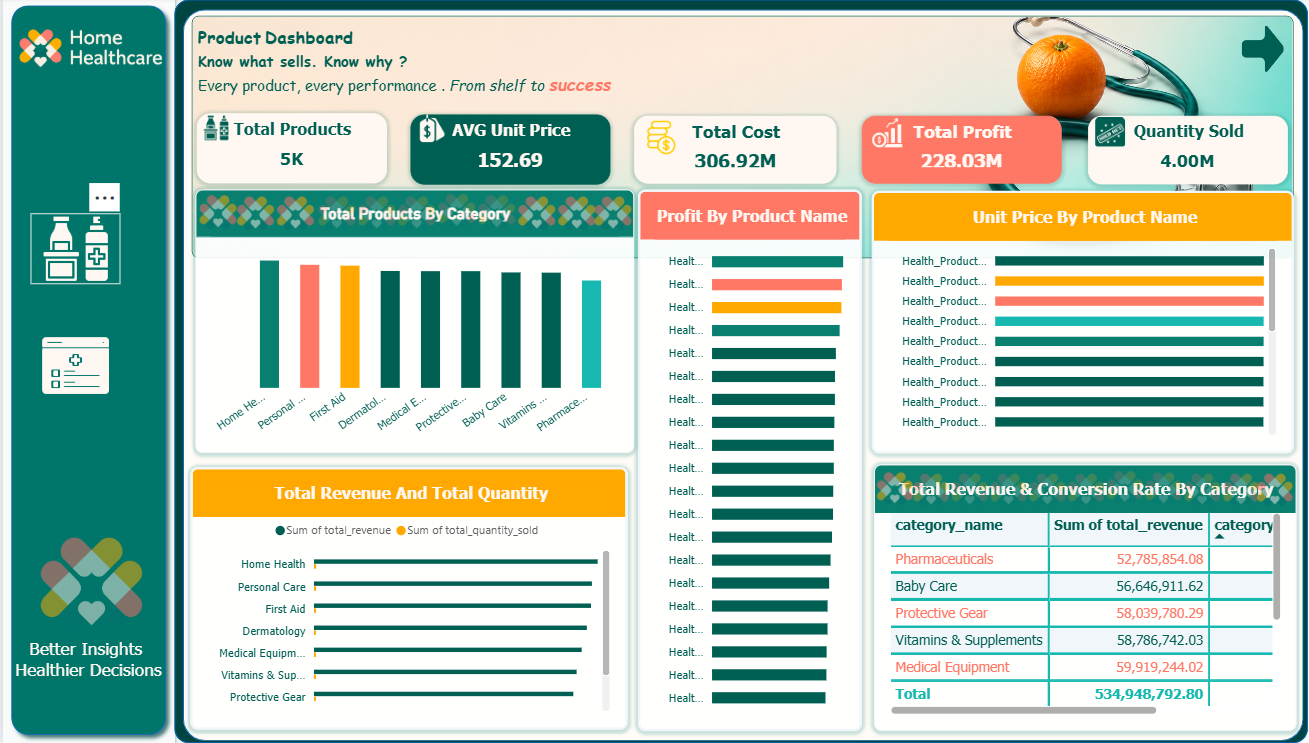

What the dashboard file says about the page in this screenshot:
{"tool":"powerbi","page":{"name":"Product Dashboard","canvas":[1400,800],"ordinal":2},"visuals":[{"type":"shape","box":[183.6,2.4,1215.8,797.6],"z":0},{"type":"cardVisual","title":"Total Cost","fields":{"Data":["Sum(healthcare_db_enhanced vw_product_dashboard.Total Cost)"]},"box":[677.5,127.8,217.2,73.1],"z":0,"group":"g2"},{"type":"shape","box":[192.9,12.9,1201.4,784.3],"z":1000},{"type":"cardVisual","title":"Total Products","fields":{"Data":["Count(healthcare_db_enhanced vw_product_dashboard.product_id)"]},"box":[207.8,124.7,204,75.2],"z":1000,"group":"g2"},{"type":"image","box":[202.9,20,1181.4,260],"z":2000},{"type":"cardVisual","title":"AVG Unit Price","fields":{"Data":["Avg(healthcare_db_enhanced vw_product_dashboard.unit_price)"]},"box":[437.3,126.5,214.5,75.1],"z":2000,"group":"g2"},{"type":"cardVisual","title":" Quantity Sold","fields":{"Data":["Sum(healthcare_db_enhanced vw_product_dashboard.total_quantity_sold)"]},"box":[1163.3,127,214.7,73.4],"z":3000,"group":"g2"},{"type":"columnChart","title":"Total Products By Category","fields":{"Category":["healthcare_db_enhanced vw_product_dashboard.category_name"],"Y":["CountNonNull(healthcare_db_enhanced vw_product_dashboard.product_id)"]},"box":[206.4,206.5,470.5,282.7],"z":3000,"group":"g3"},{"type":"clusteredBarChart","title":"Total Revenue And Total Quantity","fields":{"Category":["healthcare_db_enhanced vw_product_dashboard.category_name"],"Y":["Sum(healthcare_db_enhanced vw_product_dashboard.total_revenue)","Sum(healthcare_db_enhanced vw_product_dashboard.total_quantity_sold)"]},"box":[201.1,504,469.2,281.5],"z":3000},{"type":"cardVisual","title":"Total Profit","fields":{"Data":["Sum(healthcare_db_enhanced vw_product_dashboard.Total Profit)"]},"box":[921.5,127.3,214.7,73],"z":4000,"group":"g2"},{"type":"barChart","title":"Unit Price By Product Name","fields":{"Category":["healthcare_db_enhanced vw_product_dashboard.product_name"],"Y":["Sum(healthcare_db_enhanced vw_product_dashboard.unit_price)"]},"box":[931.6,207.8,453.1,281.5],"z":4000},{"type":"barChart","title":"Profit By Product Name","fields":{"Category":["healthcare_db_enhanced vw_product_dashboard.product_name"],"Y":["Sum(healthcare_db_enhanced vw_product_dashboard.estimated_profit)"]},"box":[681,206.4,239.9,580.4],"z":5000},{"type":"group","id":"g1","title":"Group 1","box":[0,0,184.3,800.3],"z":6000},{"type":"group","id":"g2","title":"Group 3","box":[207.8,124.7,1170.2,76.9],"z":6000,"group":"g10"},{"type":"group","id":"g3","title":"Group 6","box":[206.4,206.4,470.5,282.8],"z":7000},{"type":"tableEx","title":"Total Revenue & Conversion Rate By Category","fields":{"Values":["healthcare_db_enhanced vw_product_dashboard.category_name","Sum(healthcare_db_enhanced vw_product_dashboard.total_revenue)","healthcare_db_enhanced vw_product_dashboard.category_revenue_contribution"]},"box":[934.3,501.3,453.1,285.5],"z":7000,"group":"g4"},{"type":"group","id":"g4","title":"Group 7","box":[934.3,496.8,457.2,290],"z":8000},{"type":"group","id":"g5","title":"Group 9","box":[207.8,124.7,1170.2,76.9],"z":9000},{"type":"group","id":"g6","title":"Group 2","box":[208.6,206.4,466.5,47.3],"z":9000,"group":"g3"},{"type":"image","box":[208.6,207.6,43.1,45],"z":9000,"group":"g6"},{"type":"image","box":[935.8,498.3,41.5,56],"z":9000,"group":"g7"},{"type":"shape","box":[0,0,183.6,800.3],"z":10000,"group":"g1"},{"type":"image","box":[678.3,132.7,55,36.2],"z":10000},{"type":"image","box":[249.2,208.8,43.1,45],"z":10000,"group":"g6"},{"type":"group","id":"g7","title":"Group 2","box":[935.8,496.8,455.8,59],"z":10000,"group":"g4"},{"type":"image","box":[974.8,499.7,41.5,56],"z":10000,"group":"g7"},{"type":"image","box":[923.6,126,49.6,37.5],"z":11000},{"type":"image","box":[292.3,208.8,43.1,45],"z":11000,"group":"g6"},{"type":"image","box":[1016.3,499.7,41.5,56],"z":11000,"group":"g7"},{"type":"image","box":[26.8,568.6,136.7,119.3],"z":11000,"group":"g8"},{"type":"image","box":[5.4,0,174.3,109.9],"z":12000,"group":"g1"},{"type":"image","box":[438.3,126,44.2,29.2],"z":12000},{"type":"image","box":[335.4,208.8,43.1,45],"z":12000,"group":"g6"},{"type":"image","box":[1057.8,499.7,41.5,56],"z":12000,"group":"g7"},{"type":"image","box":[378.5,208.8,43.1,45],"z":13000,"group":"g6"},{"type":"image","box":[1099.3,499.7,41.5,56],"z":13000,"group":"g7"},{"type":"image","box":[1164.9,129.1,44.2,32.1],"z":14000,"group":"g10"},{"type":"image","box":[421.6,208.8,43.1,45],"z":14000,"group":"g6"},{"type":"image","box":[1140.8,499.7,41.5,56],"z":14000,"group":"g7"},{"type":"group","id":"g8","title":"Group 5","box":[0,568.6,184.3,194.3],"z":14000,"group":"g1"},{"type":"textbox","box":[0,687.9,183.6,75.1],"z":14001,"group":"g9"},{"type":"image","box":[464.7,206.4,43.1,45],"z":15000,"group":"g6"},{"type":"image","box":[1182.3,496.8,41.5,56],"z":15000,"group":"g7"},{"type":"group","id":"g9","title":"Group 4","box":[0,687.9,183.6,75.1],"z":15000,"group":"g8"},{"type":"group","id":"g10","title":"Group 8","box":[207.8,124.7,1170.2,76.9],"z":15001,"group":"g5"},{"type":"image","box":[507.8,207.6,43.1,45],"z":16000,"group":"g6"},{"type":"image","title":"Image category","box":[29.1,357.2,97,76],"z":16000},{"type":"image","box":[1223.8,498.3,41.5,56],"z":16000,"group":"g7"},{"type":"image","box":[207.8,125.8,41.6,28.8],"z":16501,"group":"g5"},{"type":"image","box":[550.9,208.8,43.1,45],"z":17000,"group":"g6"},{"type":"image","title":"Image product name 2","box":[29.4,232.4,97,76],"z":17000},{"type":"image","box":[1265.3,499.7,41.5,56],"z":17000,"group":"g7"},{"type":"image","box":[594,208.8,43.1,45],"z":18000,"group":"g6"},{"type":"image","title":"Image category 2","box":[29.4,357.4,97,76],"z":18000},{"type":"image","box":[1306.8,499.7,41.5,56],"z":18000,"group":"g7"},{"type":"textbox","box":[208.6,23.5,778.8,103.2],"z":19000},{"type":"image","box":[632,208.8,43.1,45],"z":19000,"group":"g6"},{"type":"image","box":[1343.4,499.7,41.5,56],"z":19000,"group":"g7"},{"type":"shape","box":[1328.4,28.2,46.9,55],"z":20000}]}

Visuals, with their boxes in screenshot pixels (x1, y1, x2, y2), scaled from the page's 1400x800 canvas onto the 1309x743 screenshot:
shape: bbox=(172, 2, 1308, 742)
"Total Cost" cardVisual: bbox=(633, 119, 837, 187)
shape: bbox=(180, 12, 1304, 740)
"Total Products" cardVisual: bbox=(194, 116, 385, 186)
image: bbox=(190, 19, 1294, 260)
"AVG Unit Price" cardVisual: bbox=(409, 117, 609, 187)
" Quantity Sold" cardVisual: bbox=(1088, 118, 1288, 186)
"Total Products By Category" columnChart: bbox=(193, 192, 633, 454)
"Total Revenue And Total Quantity" clusteredBarChart: bbox=(188, 468, 627, 730)
"Total Profit" cardVisual: bbox=(862, 118, 1062, 186)
"Unit Price By Product Name" barChart: bbox=(871, 193, 1295, 454)
"Profit By Product Name" barChart: bbox=(637, 192, 861, 731)
"Group 1" group: bbox=(0, 0, 172, 742)
"Group 3" group: bbox=(194, 116, 1288, 187)
"Group 6" group: bbox=(193, 192, 633, 454)
"Total Revenue & Conversion Rate By Category" tableEx: bbox=(874, 466, 1297, 731)
"Group 7" group: bbox=(874, 461, 1301, 731)
"Group 9" group: bbox=(194, 116, 1288, 187)
"Group 2" group: bbox=(195, 192, 631, 236)
image: bbox=(195, 193, 235, 235)
image: bbox=(875, 463, 914, 515)
shape: bbox=(0, 0, 172, 742)
image: bbox=(634, 123, 686, 157)
image: bbox=(233, 194, 273, 236)
"Group 2" group: bbox=(875, 461, 1301, 516)
image: bbox=(911, 464, 950, 516)
image: bbox=(864, 117, 910, 152)
image: bbox=(273, 194, 314, 236)
image: bbox=(950, 464, 989, 516)
image: bbox=(25, 528, 153, 639)
image: bbox=(5, 0, 168, 102)
image: bbox=(410, 117, 451, 144)
image: bbox=(314, 194, 354, 236)
image: bbox=(989, 464, 1028, 516)
image: bbox=(354, 194, 394, 236)
image: bbox=(1028, 464, 1067, 516)
image: bbox=(1089, 120, 1131, 150)
image: bbox=(394, 194, 434, 236)
image: bbox=(1067, 464, 1105, 516)
"Group 5" group: bbox=(0, 528, 172, 709)
textbox: bbox=(0, 639, 172, 709)
image: bbox=(434, 192, 475, 233)
image: bbox=(1105, 461, 1144, 513)
"Group 4" group: bbox=(0, 639, 172, 709)
"Group 8" group: bbox=(194, 116, 1288, 187)
image: bbox=(475, 193, 515, 235)
"Image category" image: bbox=(27, 332, 118, 402)
image: bbox=(1144, 463, 1183, 515)
image: bbox=(194, 117, 233, 144)
image: bbox=(515, 194, 555, 236)
"Image product name 2" image: bbox=(27, 216, 118, 286)
image: bbox=(1183, 464, 1222, 516)
image: bbox=(555, 194, 596, 236)
"Image category 2" image: bbox=(27, 332, 118, 403)
image: bbox=(1222, 464, 1261, 516)
textbox: bbox=(195, 22, 923, 118)
image: bbox=(591, 194, 631, 236)
image: bbox=(1256, 464, 1295, 516)
shape: bbox=(1242, 26, 1286, 77)
